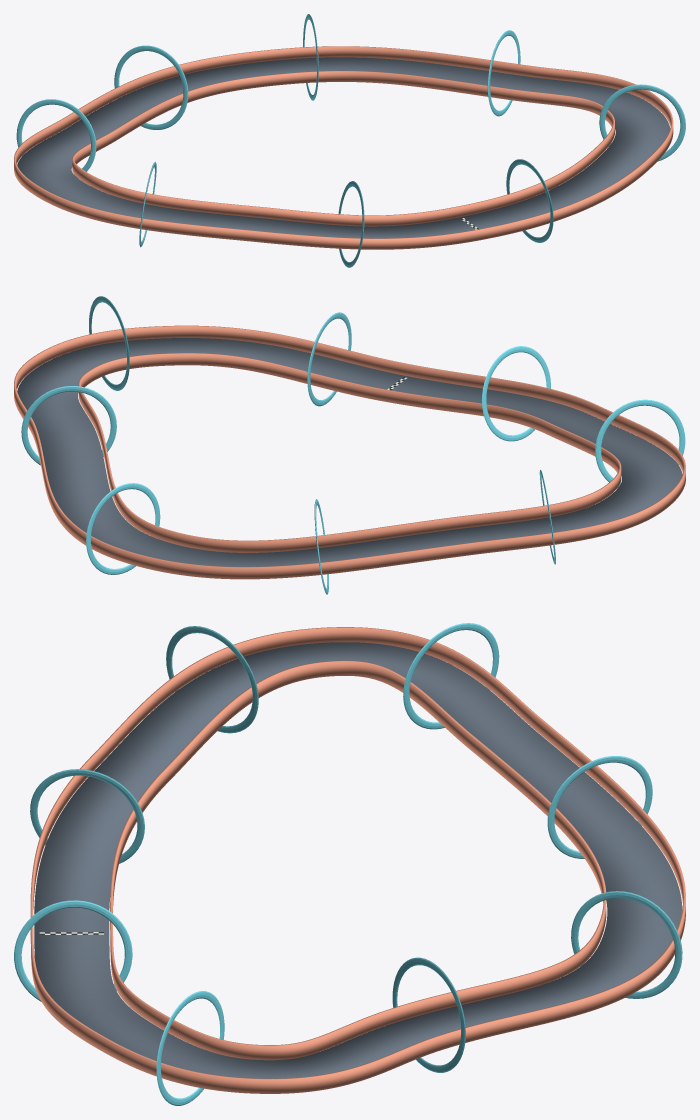
Rendered from visuals.glb.
3 renders of one model, top to bottom at view 1: azimuth 30°, elevation 25°; view 2: azimuth 150°, elevation 25°; view 3: azimuth 270°, elevation 25°, orthographic. The views are drawn at different scales.
Parts seen in each view (by area): view 1: EXPORTED_GEN_RoadVisual, EXPORTED_GEN_OuterWall, EXPORTED_GEN_InnerWall, AIR_RING_01, AIR_RING_04, AIR_RING_05, AIR_RING_00, AIR_RING_02, AIR_RING_07; view 2: EXPORTED_GEN_RoadVisual, EXPORTED_GEN_OuterWall, EXPORTED_GEN_InnerWall, AIR_RING_02, AIR_RING_06, AIR_RING_07, AIR_RING_03, AIR_RING_00, AIR_RING_01; view 3: EXPORTED_GEN_RoadVisual, EXPORTED_GEN_OuterWall, EXPORTED_GEN_InnerWall, AIR_RING_00, AIR_RING_03, AIR_RING_07, AIR_RING_04, AIR_RING_05, AIR_RING_06, AIR_RING_02, AIR_RING_01.
Part boxes in pixels (x1,y1,x2,y2): EXPORTED_GEN_RoadVisual: [17, 57, 670, 238]; EXPORTED_GEN_OuterWall: [14, 46, 673, 249]; EXPORTED_GEN_InnerWall: [72, 70, 614, 226]; AIR_RING_01: [599, 84, 685, 161]; AIR_RING_04: [114, 45, 188, 129]; AIR_RING_05: [16, 99, 96, 177]; AIR_RING_00: [506, 159, 553, 242]; AIR_RING_02: [487, 30, 520, 116]; AIR_RING_07: [338, 181, 364, 267]; EXPORTED_GEN_RoadVisual: [17, 338, 682, 566]; EXPORTED_GEN_OuterWall: [14, 325, 685, 579]; EXPORTED_GEN_InnerWall: [78, 353, 621, 552]; AIR_RING_02: [21, 386, 116, 465]; AIR_RING_06: [595, 399, 685, 487]; AIR_RING_07: [482, 346, 550, 441]; AIR_RING_03: [86, 483, 160, 574]; AIR_RING_00: [307, 312, 351, 406]; AIR_RING_01: [89, 296, 129, 390]; EXPORTED_GEN_RoadVisual: [34, 642, 682, 1078]; EXPORTED_GEN_OuterWall: [30, 627, 685, 1093]; EXPORTED_GEN_InnerWall: [110, 660, 606, 1060]; AIR_RING_00: [14, 900, 132, 1001]; AIR_RING_03: [571, 891, 682, 998]; AIR_RING_07: [30, 769, 144, 863]; AIR_RING_04: [547, 756, 652, 858]; AIR_RING_05: [403, 623, 499, 729]; AIR_RING_06: [166, 626, 258, 733]; AIR_RING_02: [392, 957, 465, 1072]; AIR_RING_01: [156, 991, 224, 1105].
Size of the model in its own units: 126 by 24.07 by 89.56.
